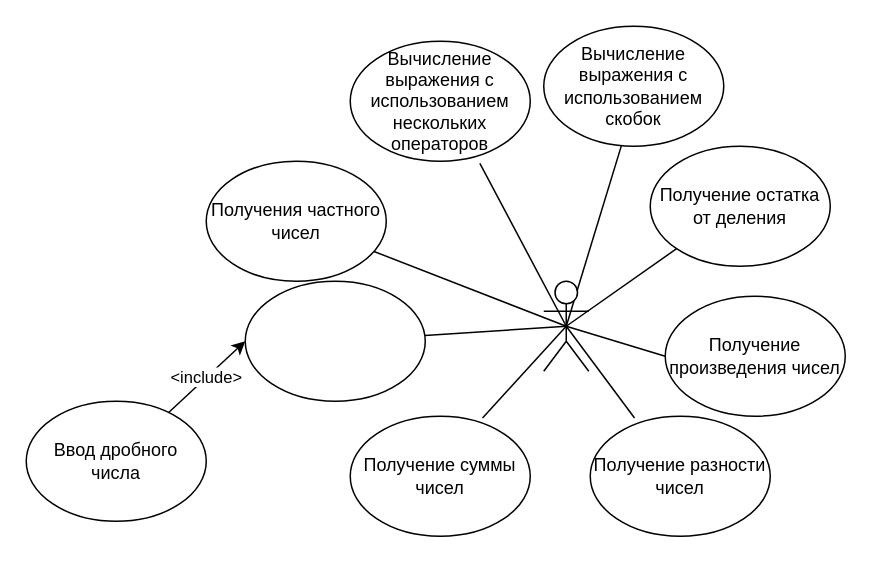
Some shapes in this 872 by 563 pixel diagram are drawn without their labels. The centre of each missing label's shape, as x and y in pixels:
Ввод числа в поле: the point at 334,340
Пользователь: the point at 565,325
